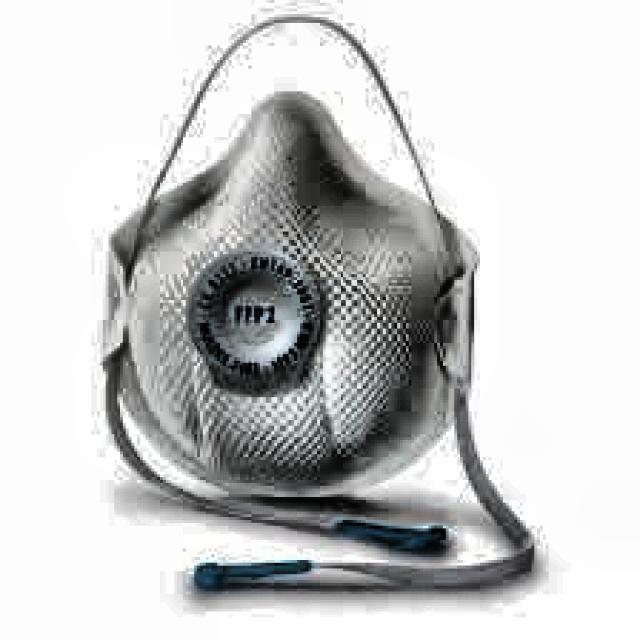trash: (102, 82, 537, 499)
